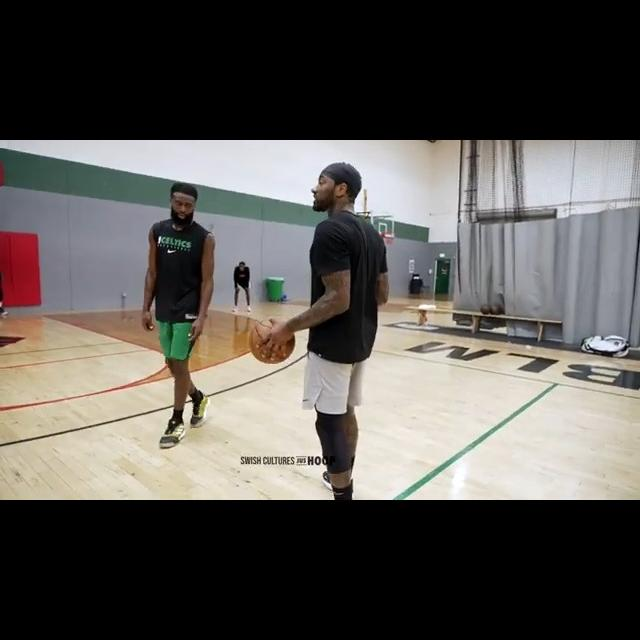basketball: (249, 321, 296, 364), (489, 304, 502, 316), (481, 304, 492, 315)
hoop: (383, 231, 396, 245)
person: (302, 161, 388, 500), (131, 182, 218, 452), (228, 260, 254, 314)
